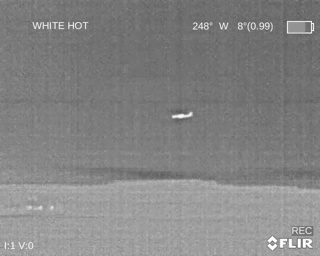AIRPLANE: (170, 111, 192, 119)
